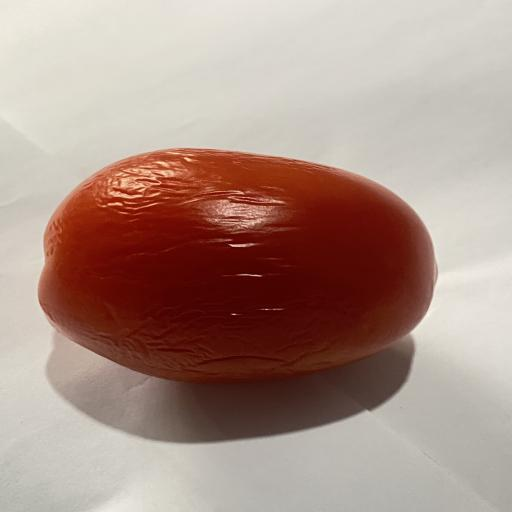spoiled: (38, 149, 436, 383)
